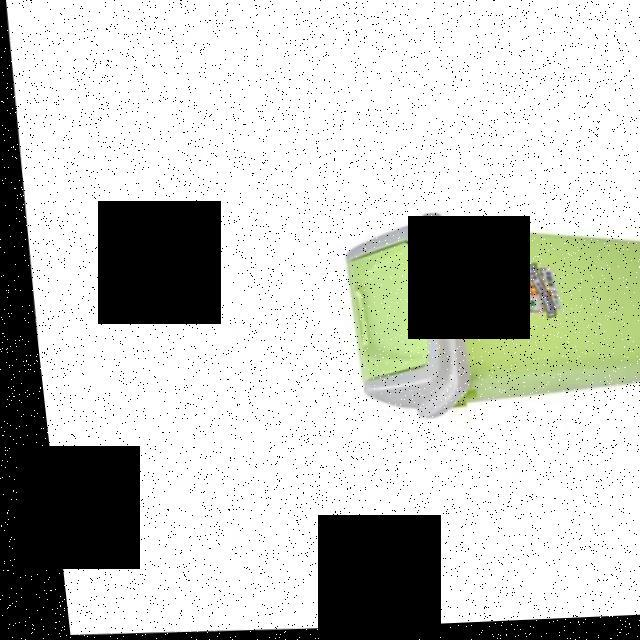bin: (307, 170, 640, 444)
